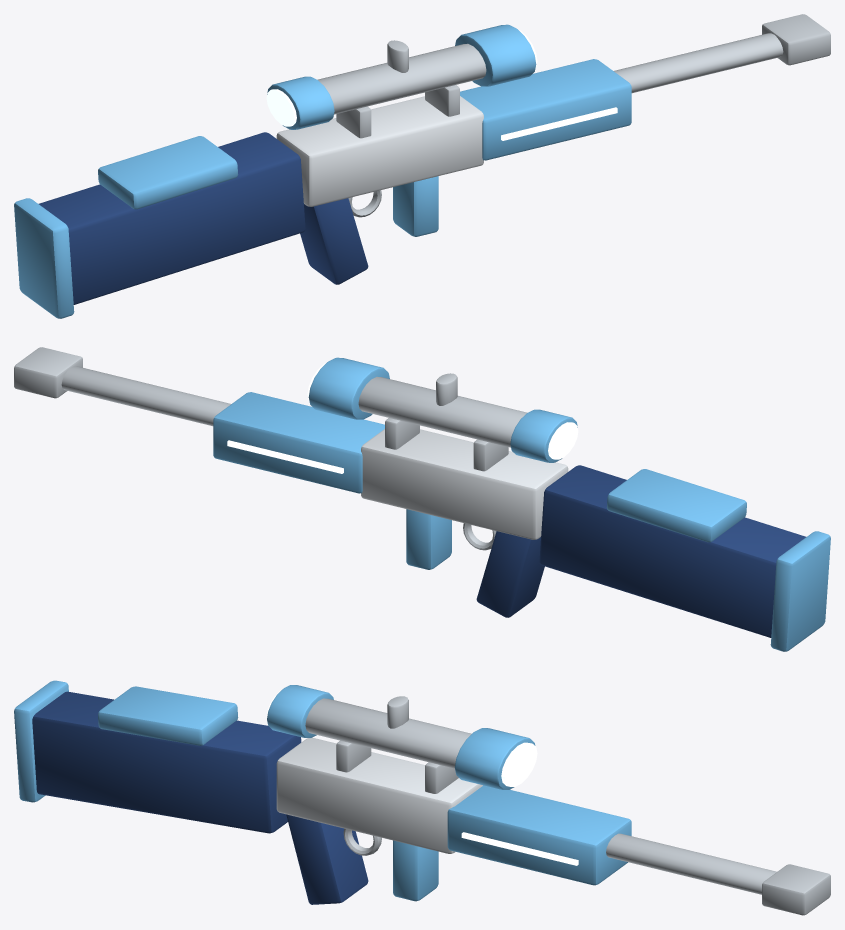
File: SGP_Sniper_Frost.glb
3 views of the same model, one above another, from view 1: azimuth 30°, elevation 25°; view 2: azimuth 150°, elevation 25°; view 3: azimuth 330°, elevation 25° (orthographic).
Visible parts, largest first — view 1: SGP_Sniper_Frost; view 2: SGP_Sniper_Frost; view 3: SGP_Sniper_Frost.
Part boxes in pixels (x1=…): SGP_Sniper_Frost: x1=14, y1=14, x2=830, y2=318; SGP_Sniper_Frost: x1=14, y1=347, x2=830, y2=651; SGP_Sniper_Frost: x1=14, y1=680, x2=830, y2=915.
Size of the model in its own units: 0.8882 by 0.2295 by 0.08.
